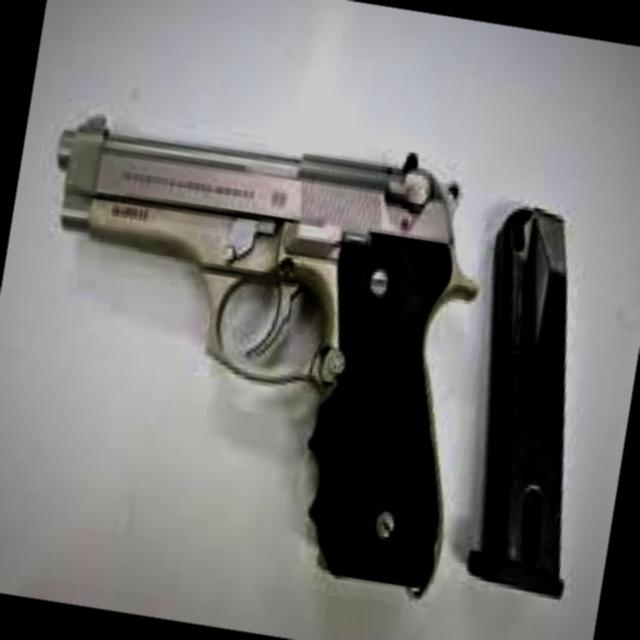semi automatic: (0, 79, 509, 612)
